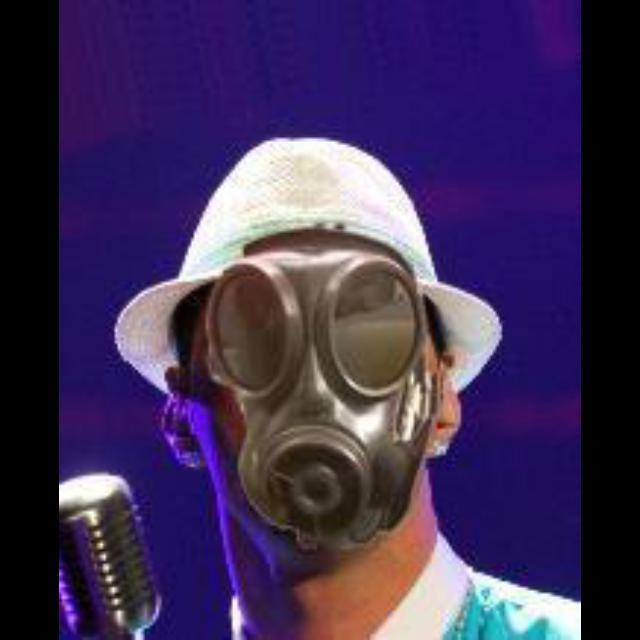suspicion: (149, 194, 495, 578)
